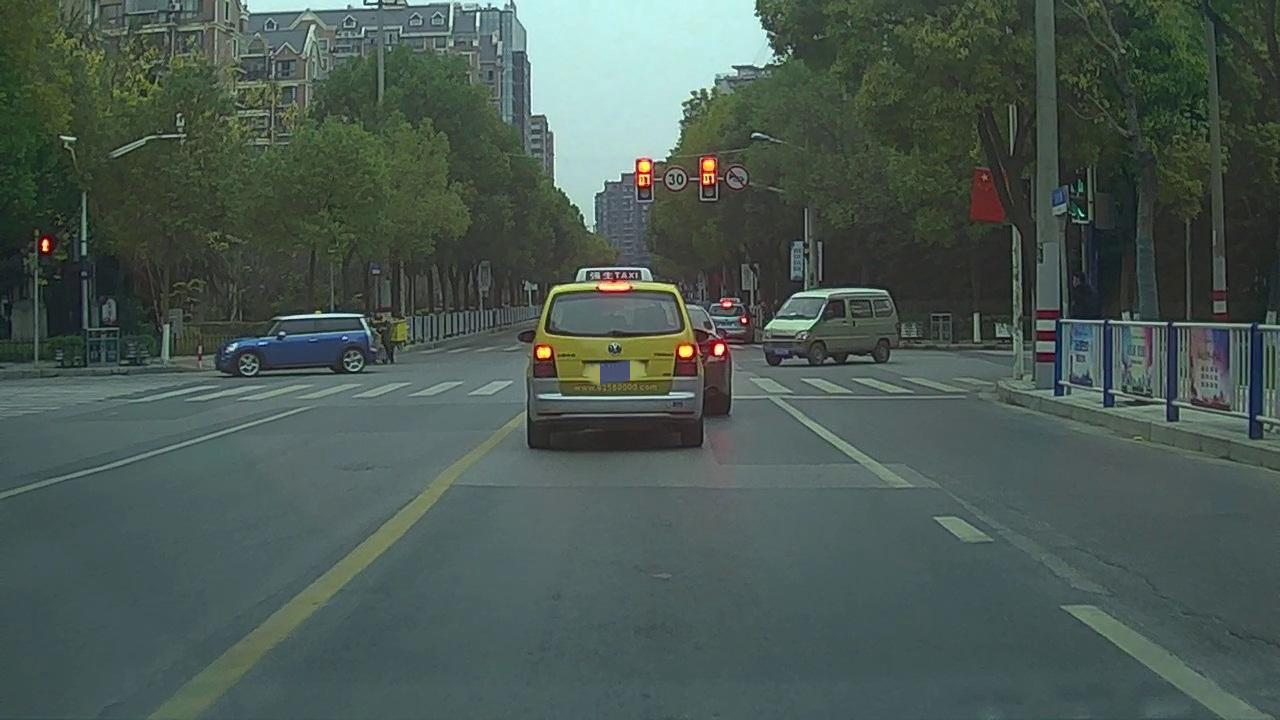traffic_light: (635, 159, 652, 200), (702, 157, 717, 198)
